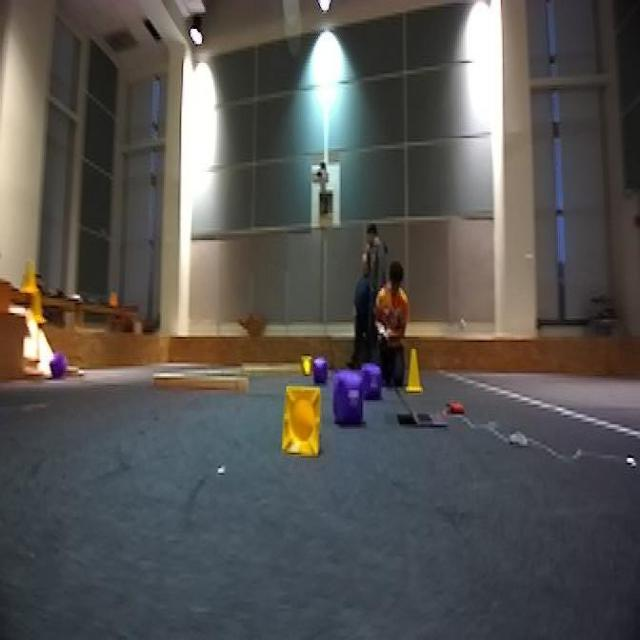frc_cone: (281, 383, 330, 465), (403, 347, 426, 393), (28, 286, 44, 328), (21, 260, 35, 300), (296, 350, 315, 372)
frc_cube: (336, 371, 366, 422), (360, 362, 384, 397), (48, 351, 64, 383), (310, 354, 330, 376)
